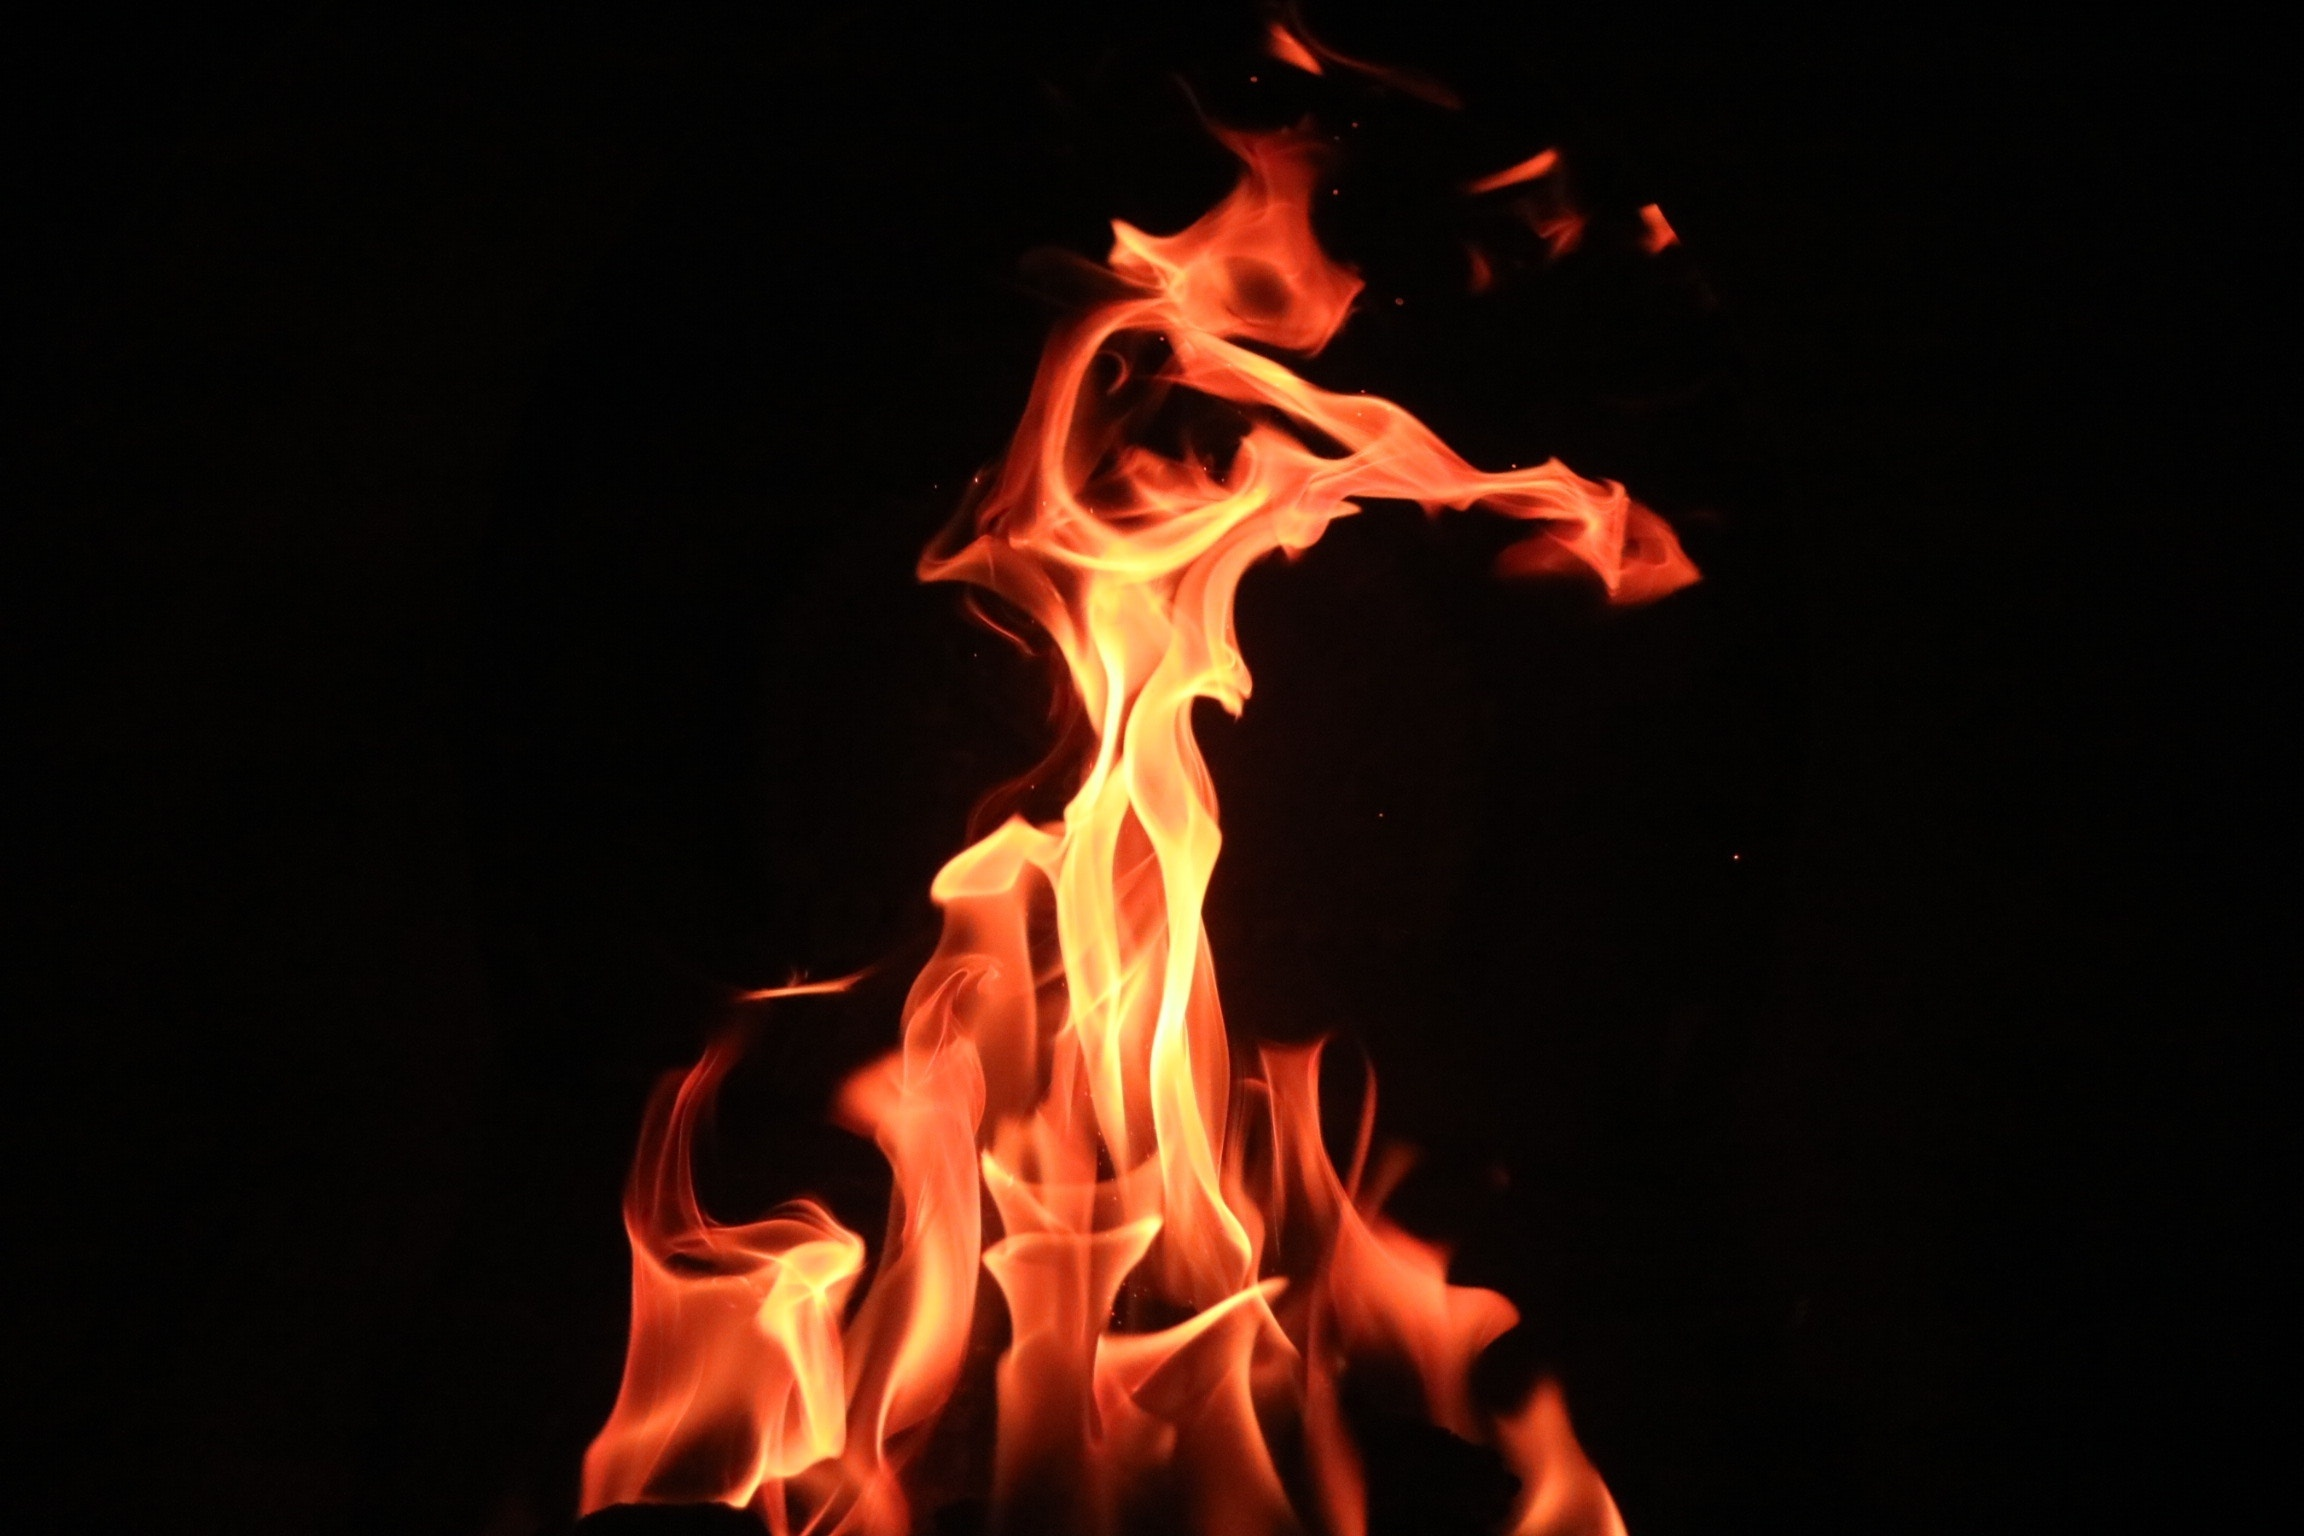fire: (485, 103, 1677, 1510)
